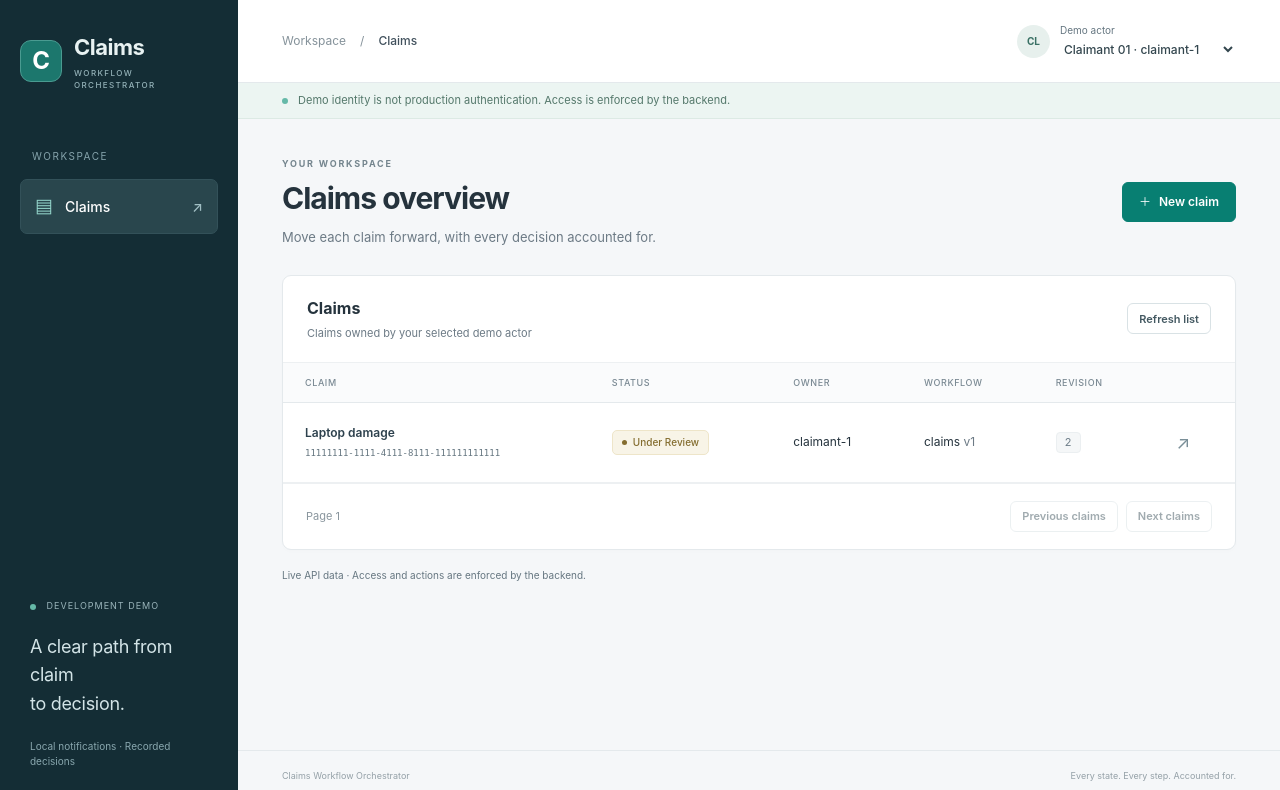
Test: claims demo workspace › locks actor changes during an uncertain request and reuses command context after refresh
This screenshot has width=1280, height=790.
Click the button named "Open Laptop damage" at (1183, 442), box [1172,425,1194,460]
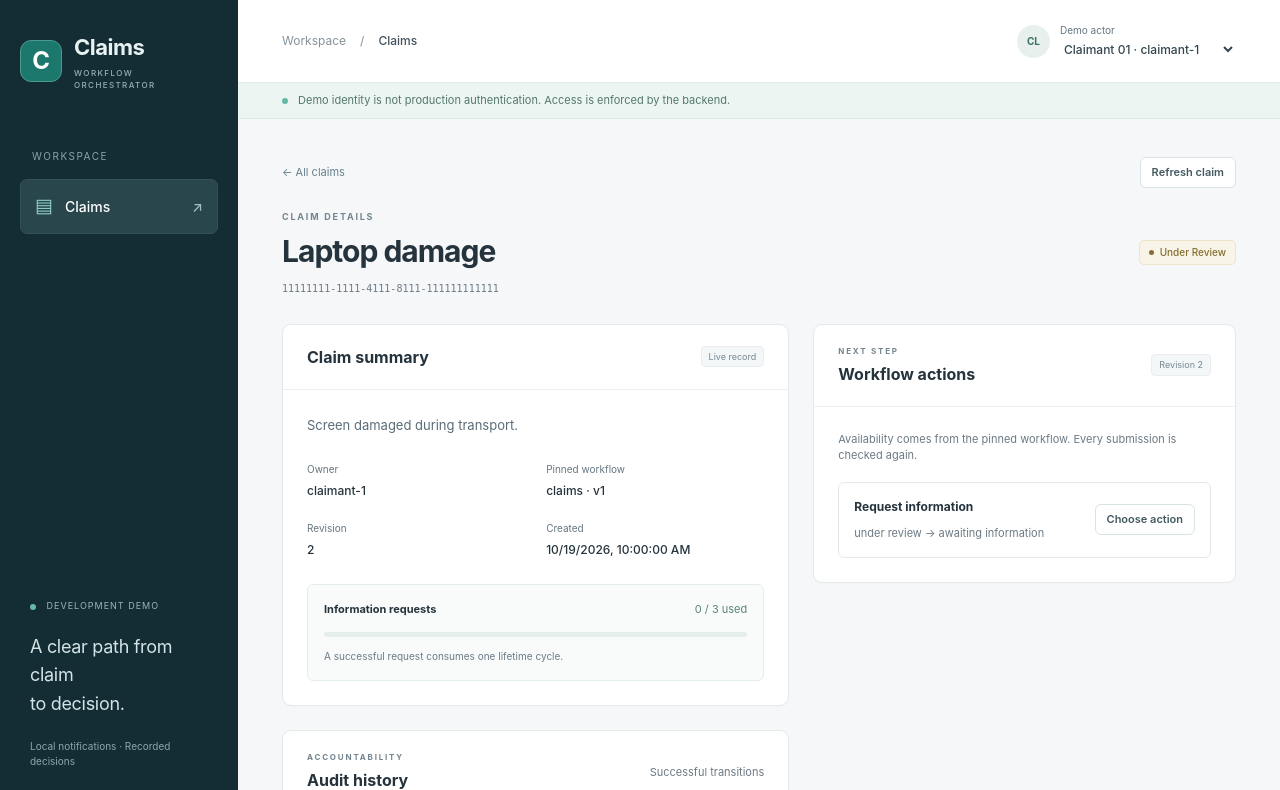
Click the button "Choose action" at (1145, 520), box [1094,504,1195,535]
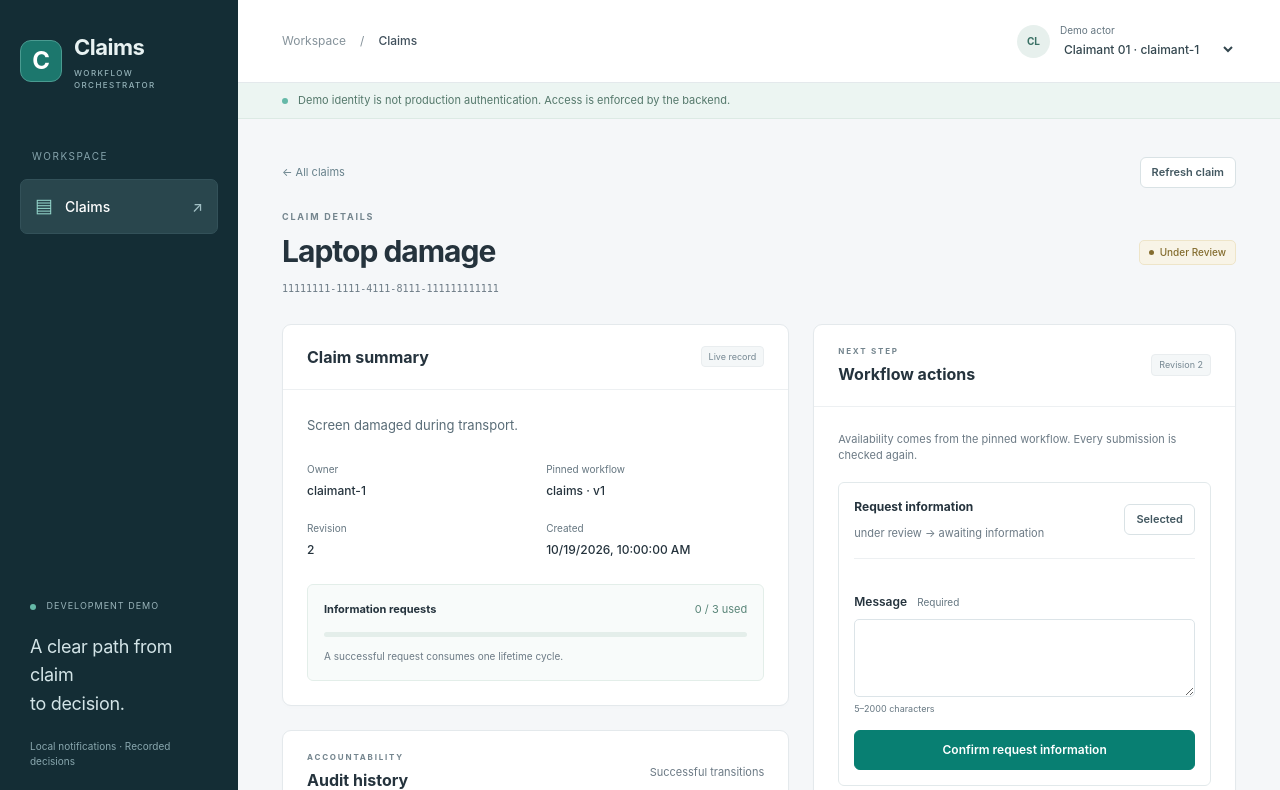
Type "Please provide details" into the text box labelled "Message Required" at (1025, 658), box [854,618,1195,696]
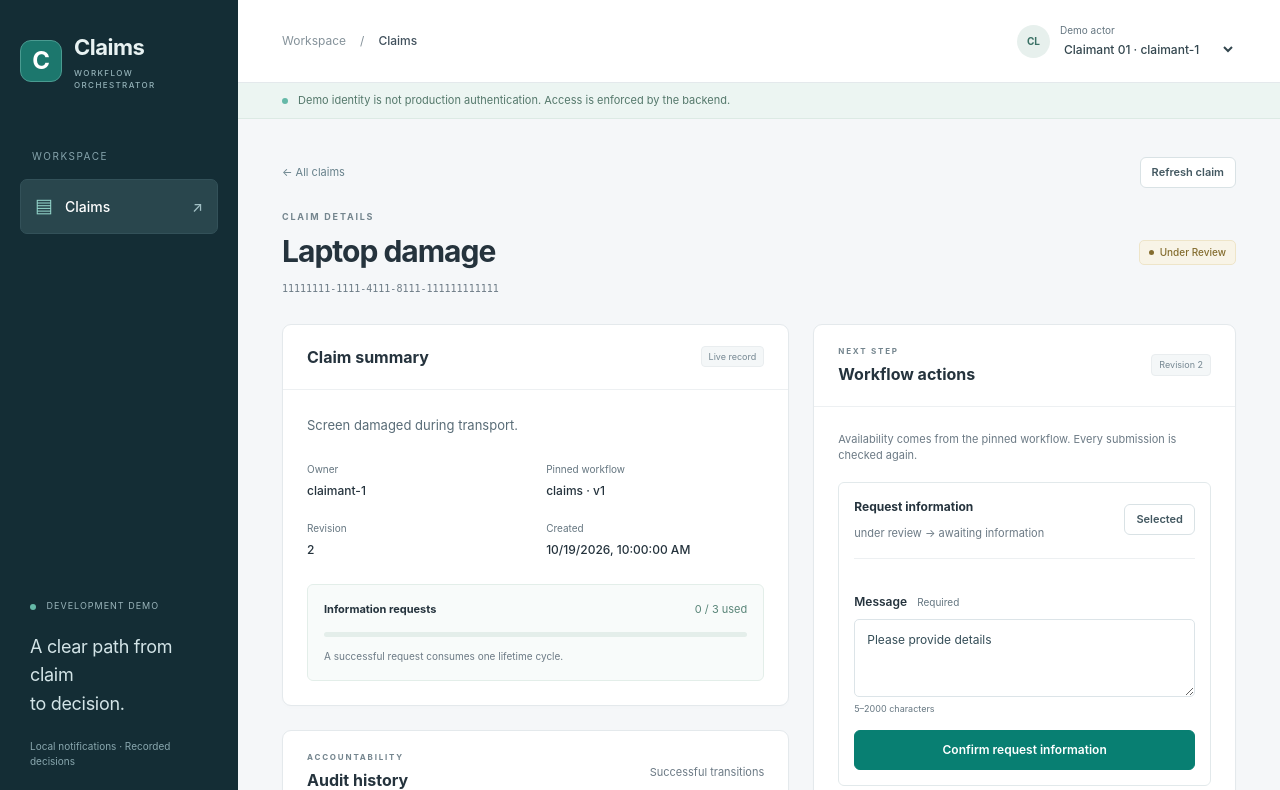
Submit the form named "Request information form", box [854,558,1195,770]
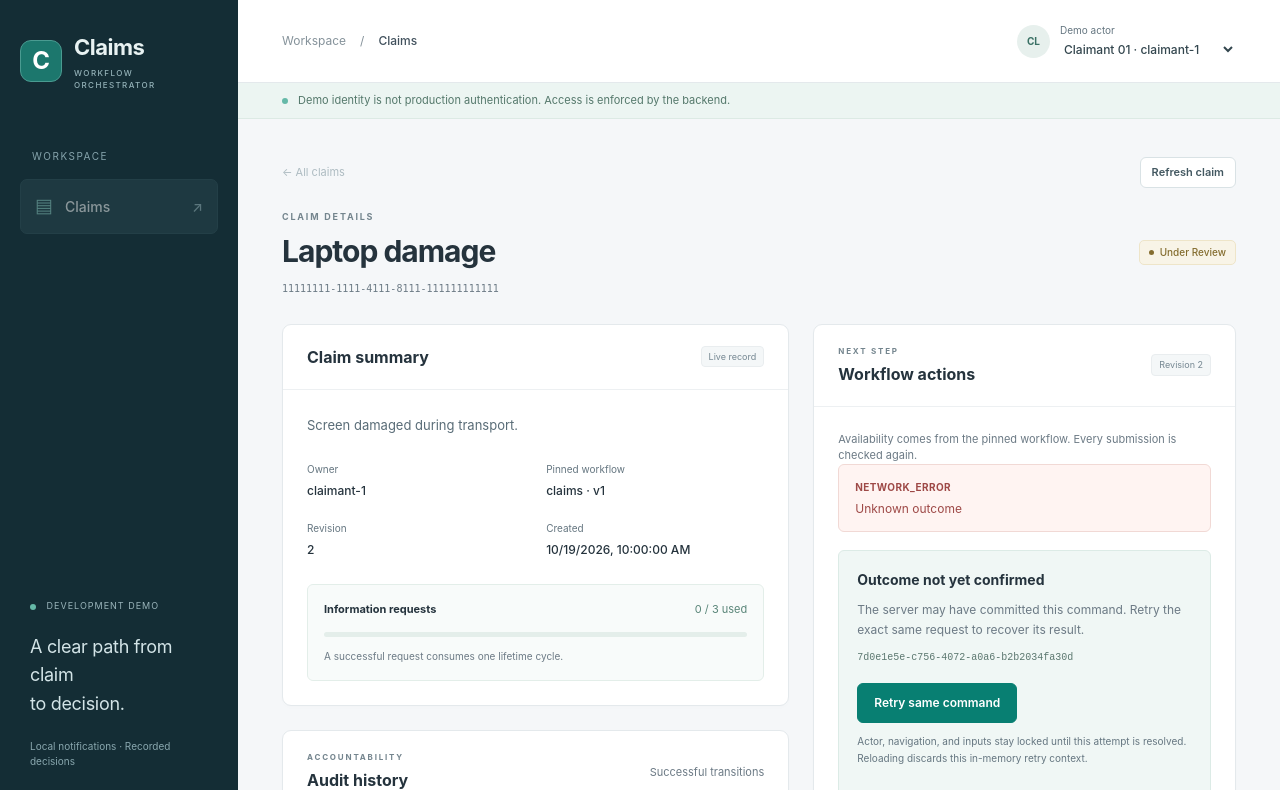
Check: the dropdown labelled "Demo actor" is disabled, box [1060,41,1236,58]
Check: the heading "Outcome not yet confirmed" is shown, box [857,570,1044,588]
Click the button "Refresh claim" at (1188, 172), box [1140,156,1236,188]
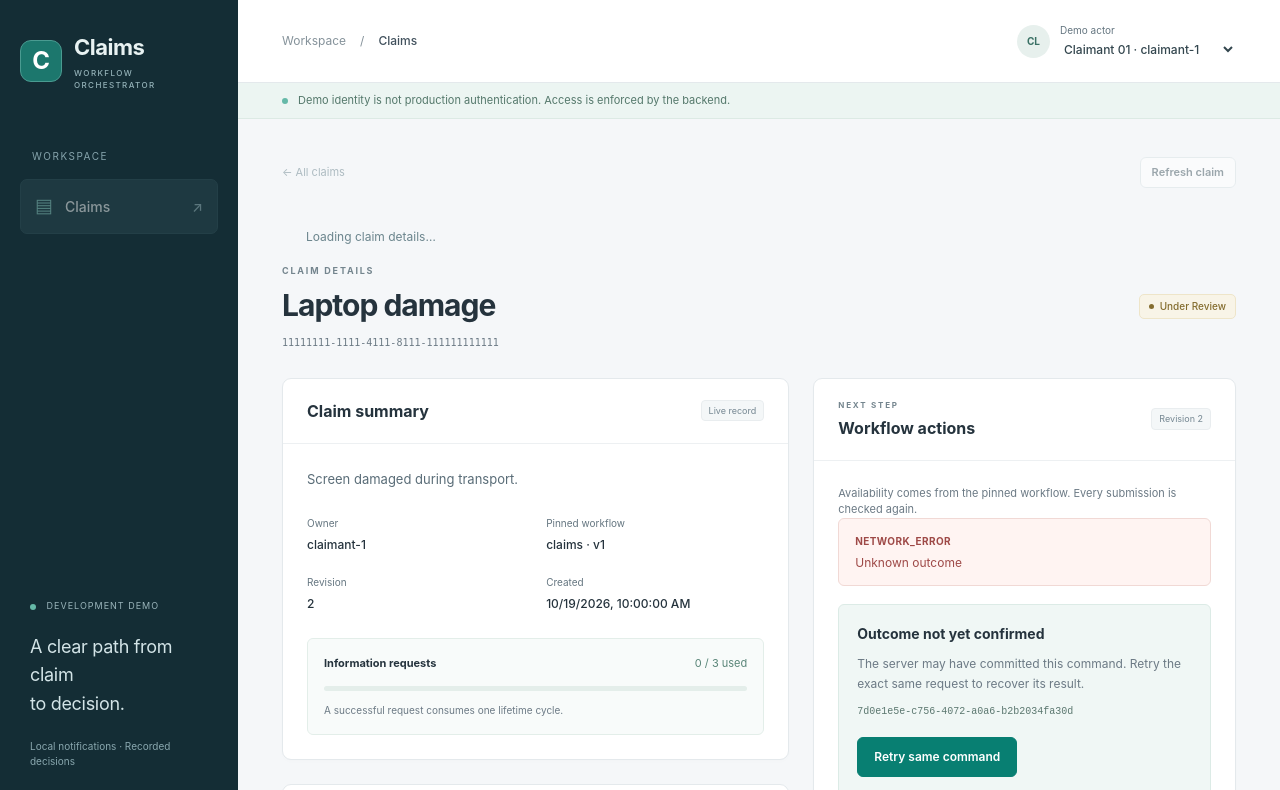
Click the button "Retry same command" at (937, 757), box [857,737,1017,777]
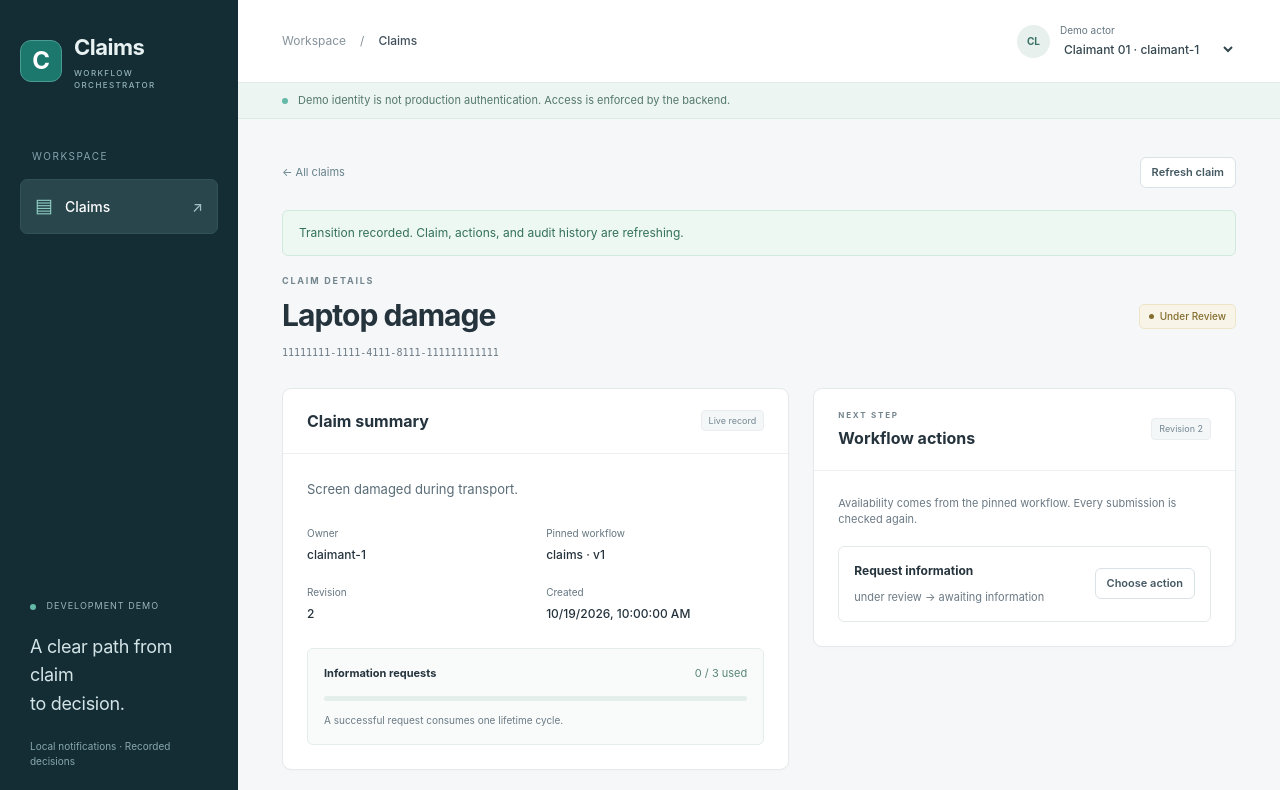
Check: the dropdown labelled "Demo actor" is enabled, box [1060,41,1236,58]
Check: the text "Transition recorded. Claim, actions, and audit history are refreshing." is shown, box [282,210,1236,256]
